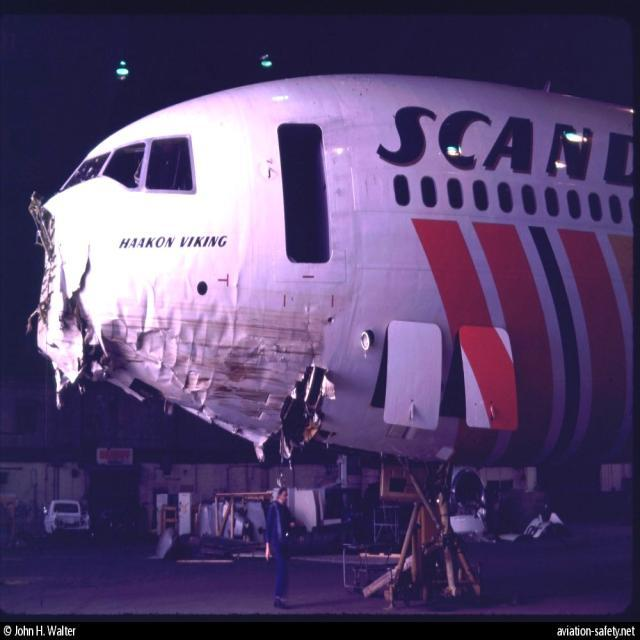crack: (66, 246, 97, 310), (301, 301, 322, 366)
dent: (215, 260, 256, 347), (113, 280, 159, 337), (252, 347, 282, 391)
